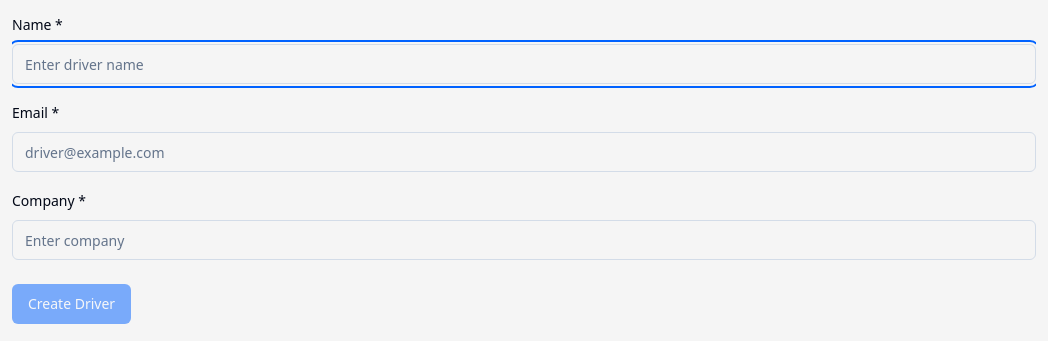
Test case: DriverCreateForm › disables submit until name, email, and company are filled
This screenshot has width=1048, height=341.
Expected: the button "Create Driver" is disabled, [12,284,131,324]
Type "New Guy" into the field labelled "Name *" at x=524, y=64, box [12,44,1036,84]
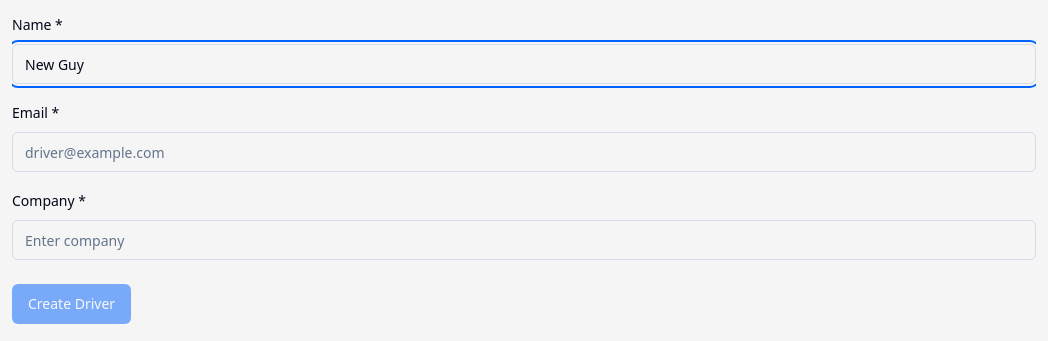
Type "new@guy.com" into the field labelled "Email *" at x=524, y=152, box [12,132,1036,172]
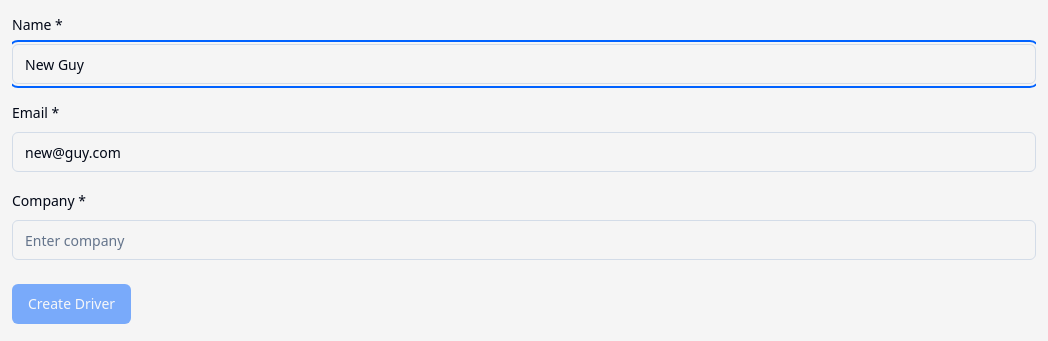
Expected: the button "Create Driver" is disabled, [12,284,131,324]
Type "ACME" into the field labelled "Company *" at x=524, y=240, box [12,220,1036,260]
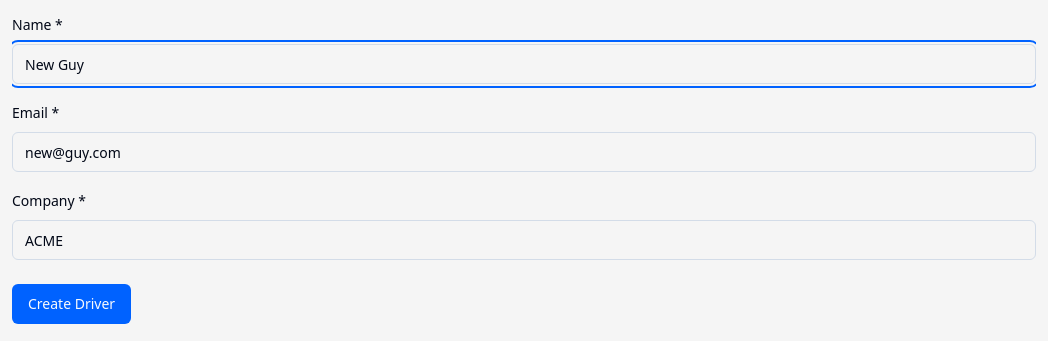
Expected: the button "Create Driver" is enabled, [12,284,131,324]
